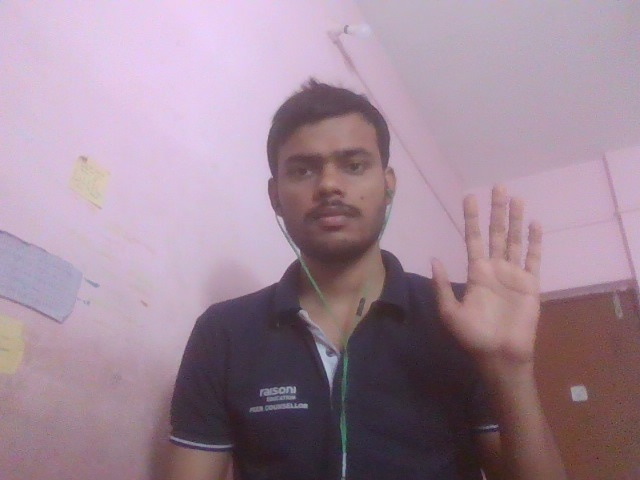Hello: (374, 160, 591, 398)
